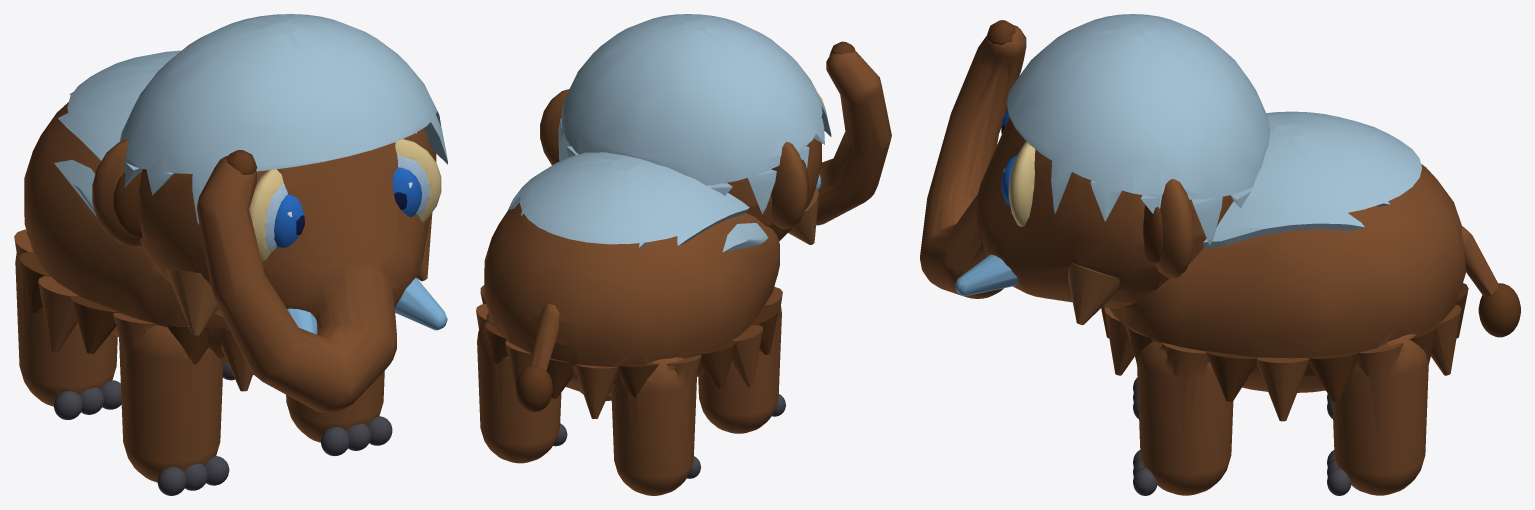
The model's file is tuskling.glb.
The picture shows the model from 3 angles, left to right: view 1: azimuth 30°, elevation 25°; view 2: azimuth 150°, elevation 25°; view 3: azimuth 270°, elevation 25°; orthographic projection. The views are drawn at different scales.
Visible parts, largest first — view 1: creature; view 2: creature; view 3: creature.
Boxes of the visible parts, x1,y1,x2,y2 form: creature: (14, 14, 447, 495); creature: (476, 14, 891, 495); creature: (920, 14, 1520, 495).
Bounding box in the file's own units: 0.7466 × 1 × 1.29.
